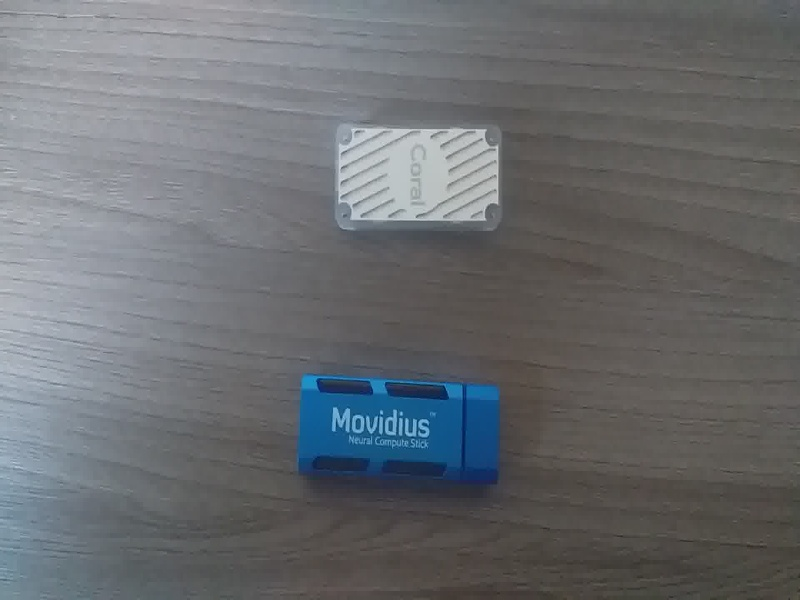coral: (326, 115, 512, 238)
movidius: (291, 366, 525, 504)
